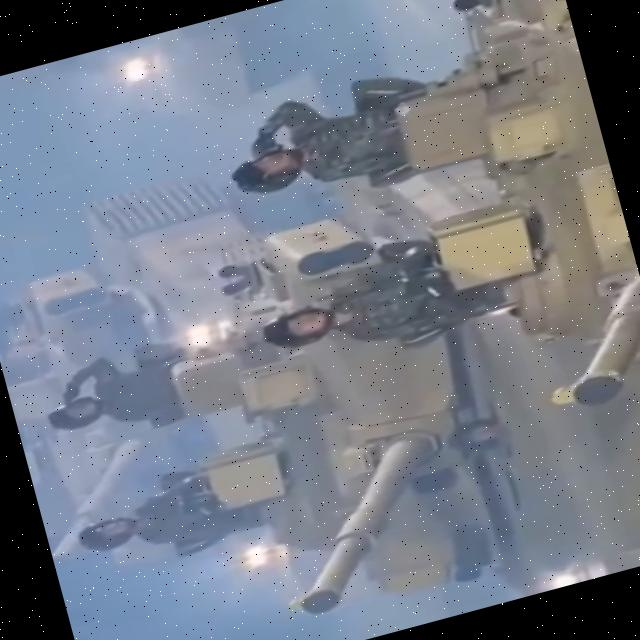north tank: (118, 124, 640, 640), (353, 0, 640, 441)
